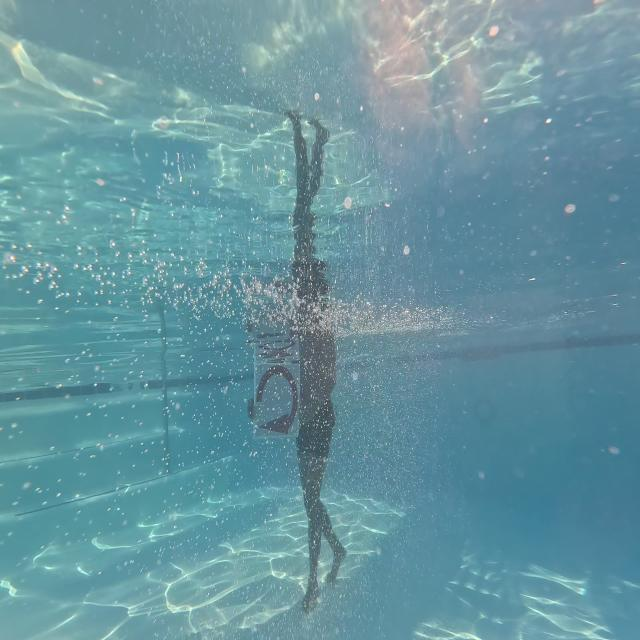red_side: (258, 349, 300, 436)
